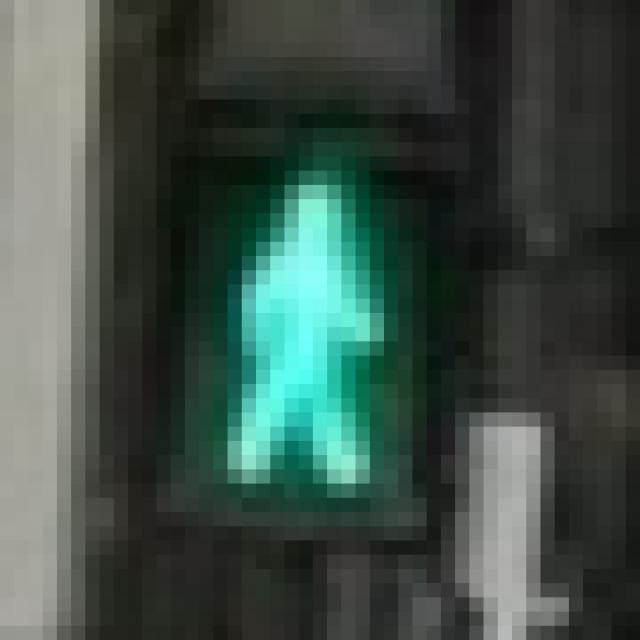geen-crossing: (142, 85, 441, 512)
